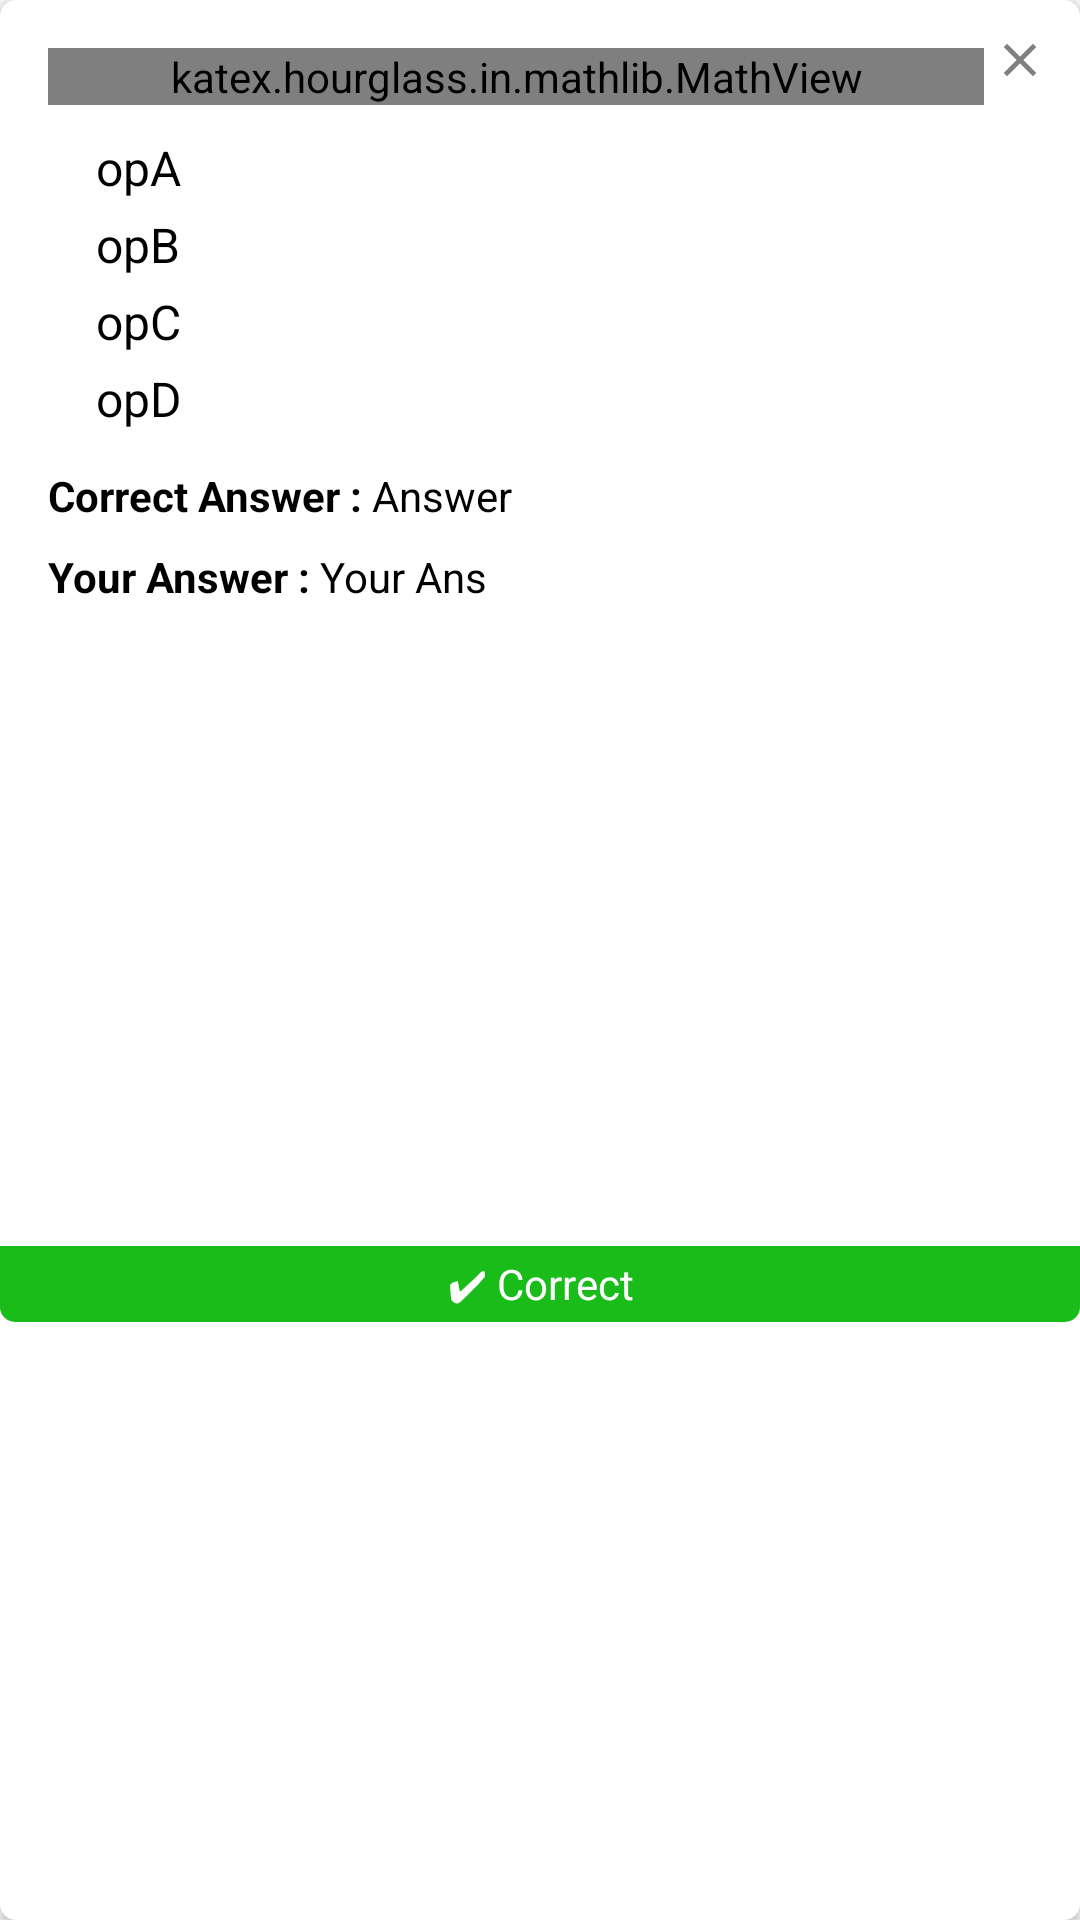

Icon bounding boxes for this 1080 x 1920 phone screenshot, format (x1, y1, x2, y2):
close: (1004, 44, 1036, 76)
